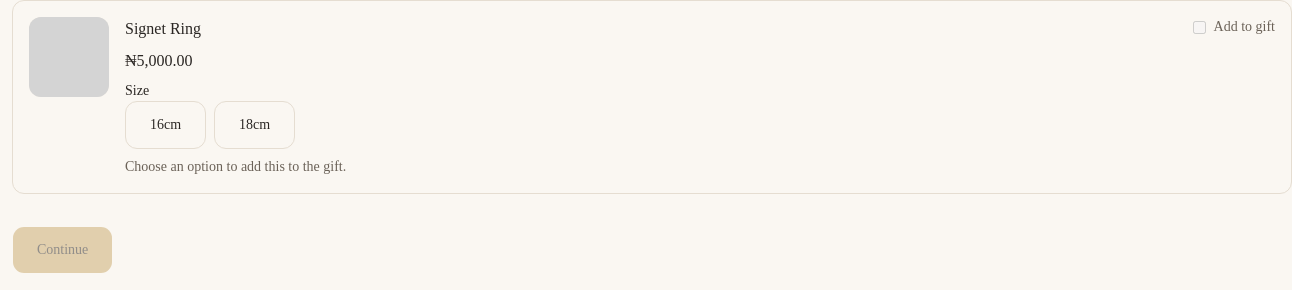
Test: GiftSelection › disables a variant product's checkbox and shows a hint until a variant is chosen
Check: the checkbox named "add signet ring to the gift" is disabled, box [1192,20,1206,34]
Check: the text "Choose an option to add this to the gift." is shown, box [125,159,346,174]
Click the button "18cm".
click(255, 125)  # box [214,101,295,149]
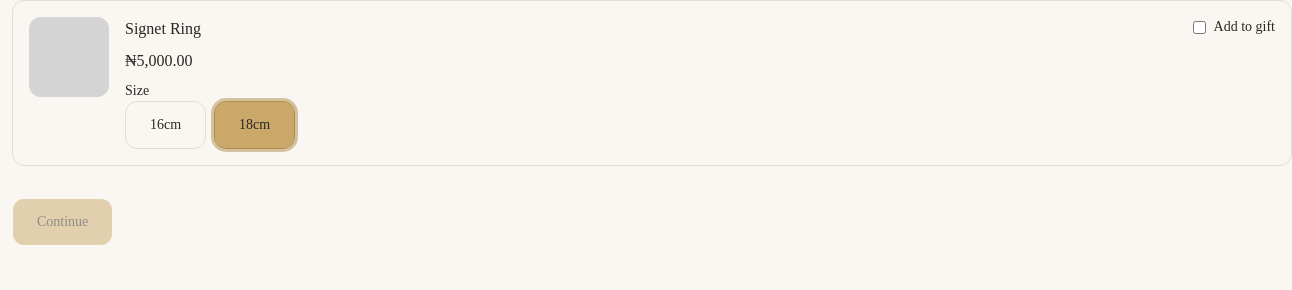
Check: the checkbox named "add signet ring to the gift" is enabled, box [1192,20,1206,34]
Check: the text "Choose an option to add this to the gift" is gone
